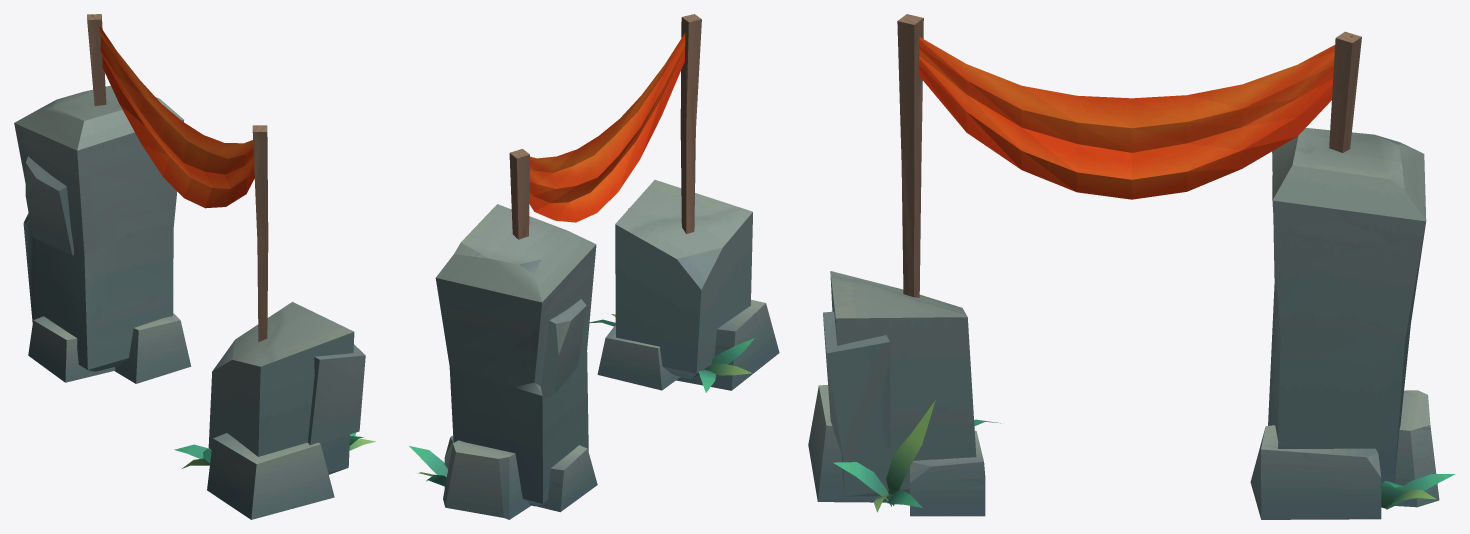
File: WallEntrance2B-003_40_21_1030.fbx
3 renders of one model, left to right at view 1: azimuth 30°, elevation 25°; view 2: azimuth 150°, elevation 25°; view 3: azimuth 270°, elevation 25°, orthographic. The views are drawn at different scales.
Visible parts, largest first — view 1: Arch, Cloth1 (1), Wood1.002 (3), Wood1.002 (2); view 2: Arch, Cloth1 (1), Wood1.002 (3), Wood1.002 (2); view 3: Arch, Cloth1 (1), Wood1.002 (3), Wood1.002 (2).
Boxes of the visible parts, bbox=[...] form: Arch: bbox=[14, 85, 375, 519]; Cloth1 (1): bbox=[92, 15, 254, 208]; Wood1.002 (3): bbox=[252, 125, 268, 342]; Wood1.002 (2): bbox=[87, 14, 106, 105]; Arch: bbox=[409, 180, 779, 519]; Cloth1 (1): bbox=[518, 32, 685, 222]; Wood1.002 (3): bbox=[680, 14, 701, 233]; Wood1.002 (2): bbox=[509, 148, 529, 239]; Arch: bbox=[808, 128, 1455, 519]; Cloth1 (1): bbox=[919, 35, 1352, 199]; Wood1.002 (3): bbox=[897, 14, 923, 297]; Wood1.002 (2): bbox=[1329, 31, 1361, 152].
Bounding box in the file's own units: 2.43 × 4.76 × 6.03.
